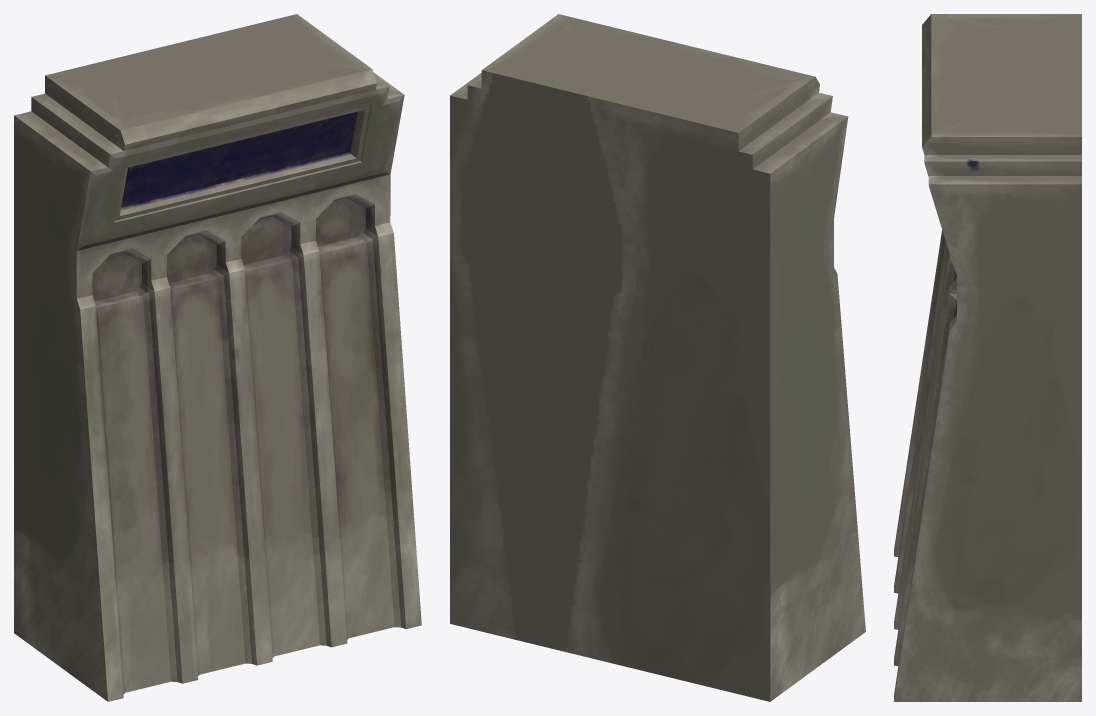
The model's file is NewEmporerSegment.fbx.
3 renders of one model, left to right at view 1: azimuth 30°, elevation 25°; view 2: azimuth 150°, elevation 25°; view 3: azimuth 270°, elevation 25°, orthographic. The views are drawn at different scales.
Parts seen in each view (by area): view 1: EmperorSection.002; view 2: EmperorSection.002; view 3: EmperorSection.002.
Boxes of the visible parts, left/top/right/bottom form: EmperorSection.002: left=14, top=14, right=421, bottom=701; EmperorSection.002: left=450, top=14, right=865, bottom=701; EmperorSection.002: left=894, top=14, right=1081, bottom=701.
Size of the model in its own units: 4000 by 6700 by 2072.
